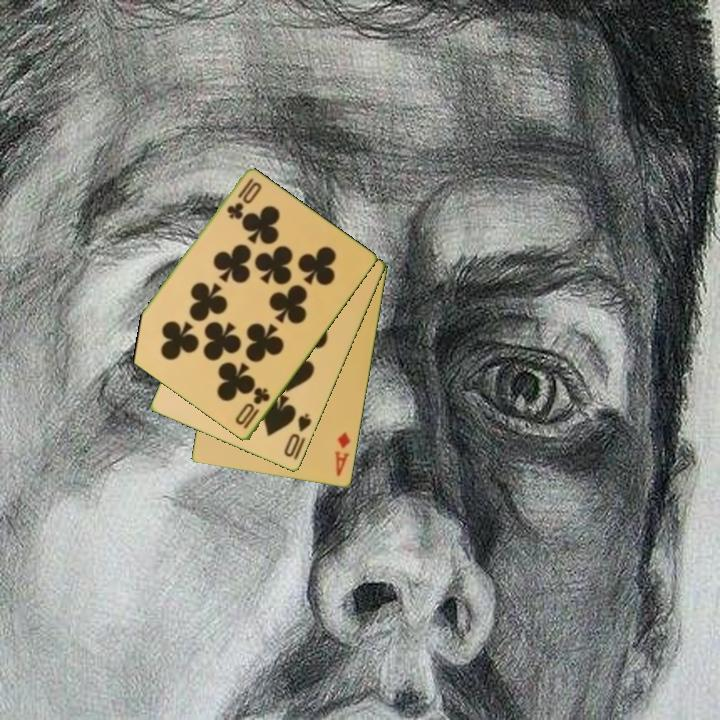10c: (231, 384, 273, 432), (223, 175, 257, 222)
10s: (281, 410, 315, 460)
Ad: (331, 428, 353, 479)
